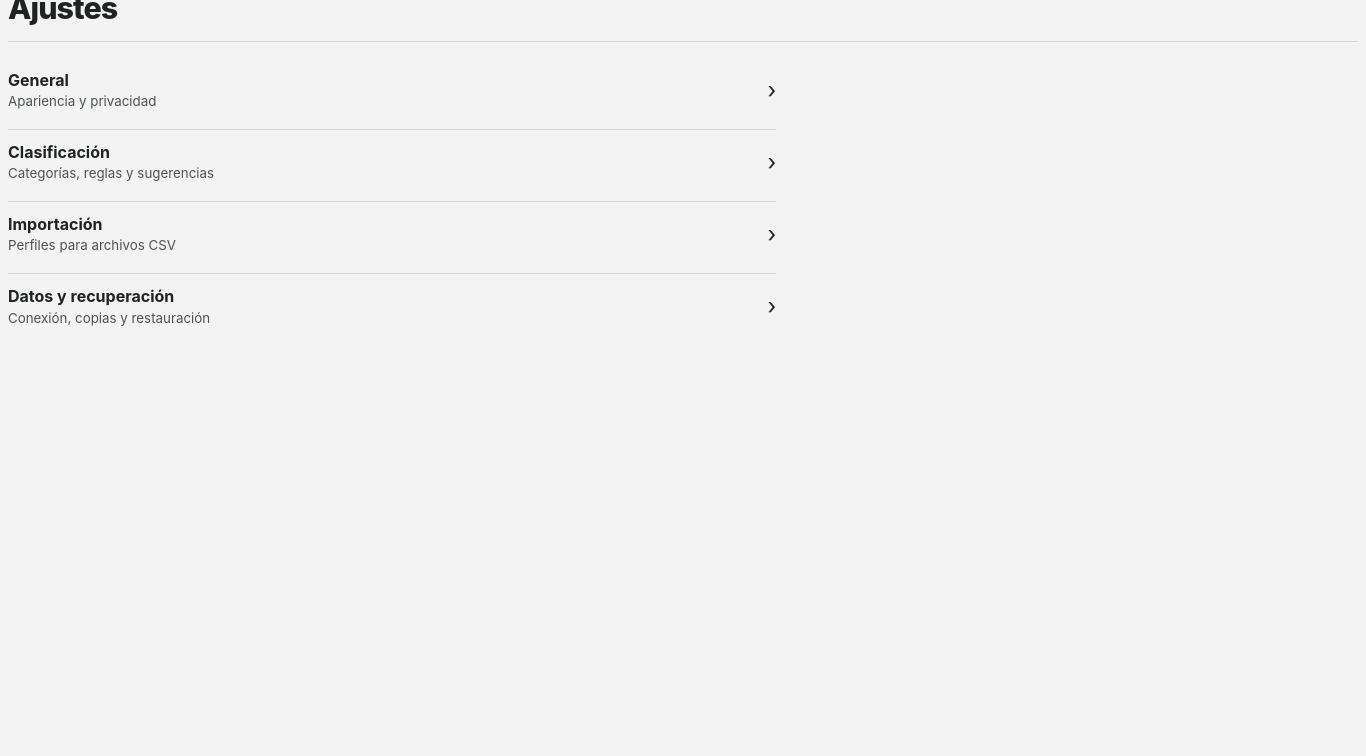
Test case: SettingsView › permite editar categorías desde el único árbol del destino
The image size is (1366, 756).
What coordinates should you click on to do the following:
click the button "Clasificación Categorías, reglas y sugerencias ›"
I would click on:
 (59, 152)
Its box is [8, 129, 776, 193].
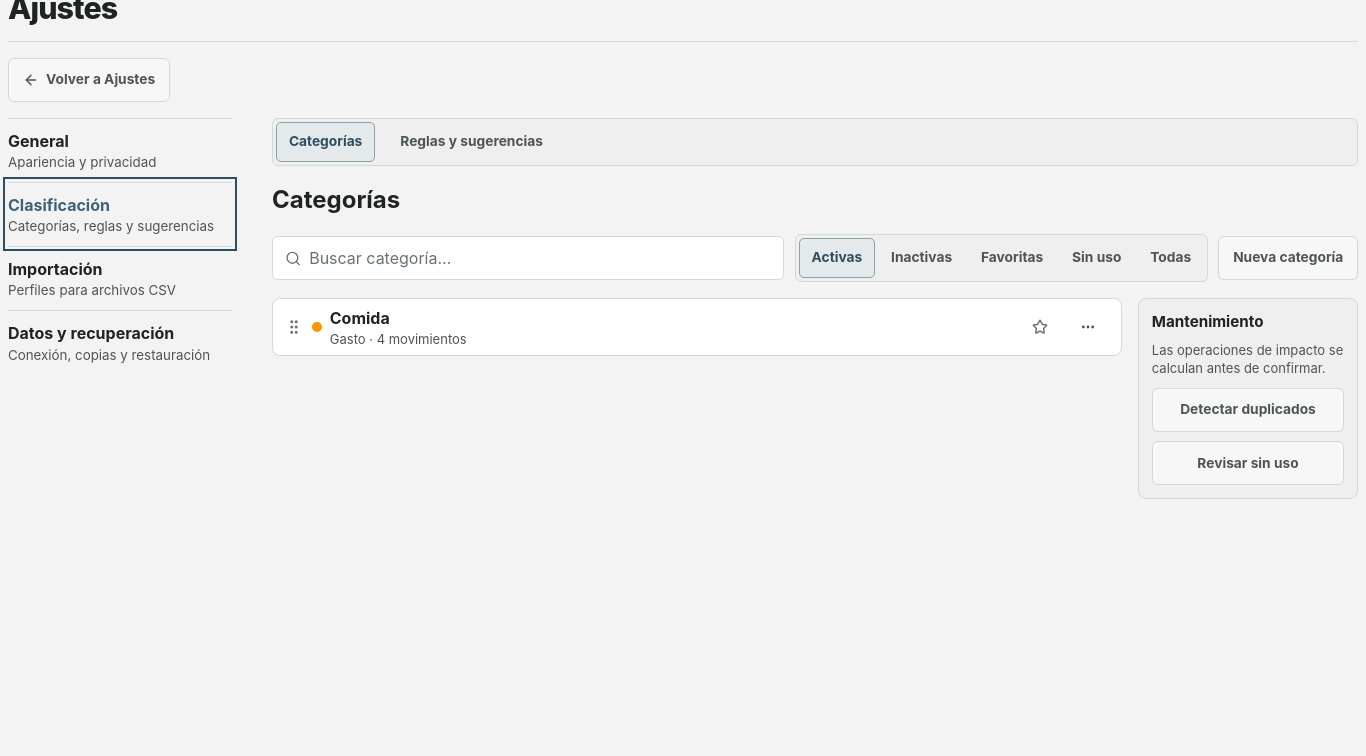
What coordinates should you click on to do the following:
click the button named "Acciones de Comida"
I would click on:
 (1088, 327)
Its box is [1066, 305, 1110, 350].
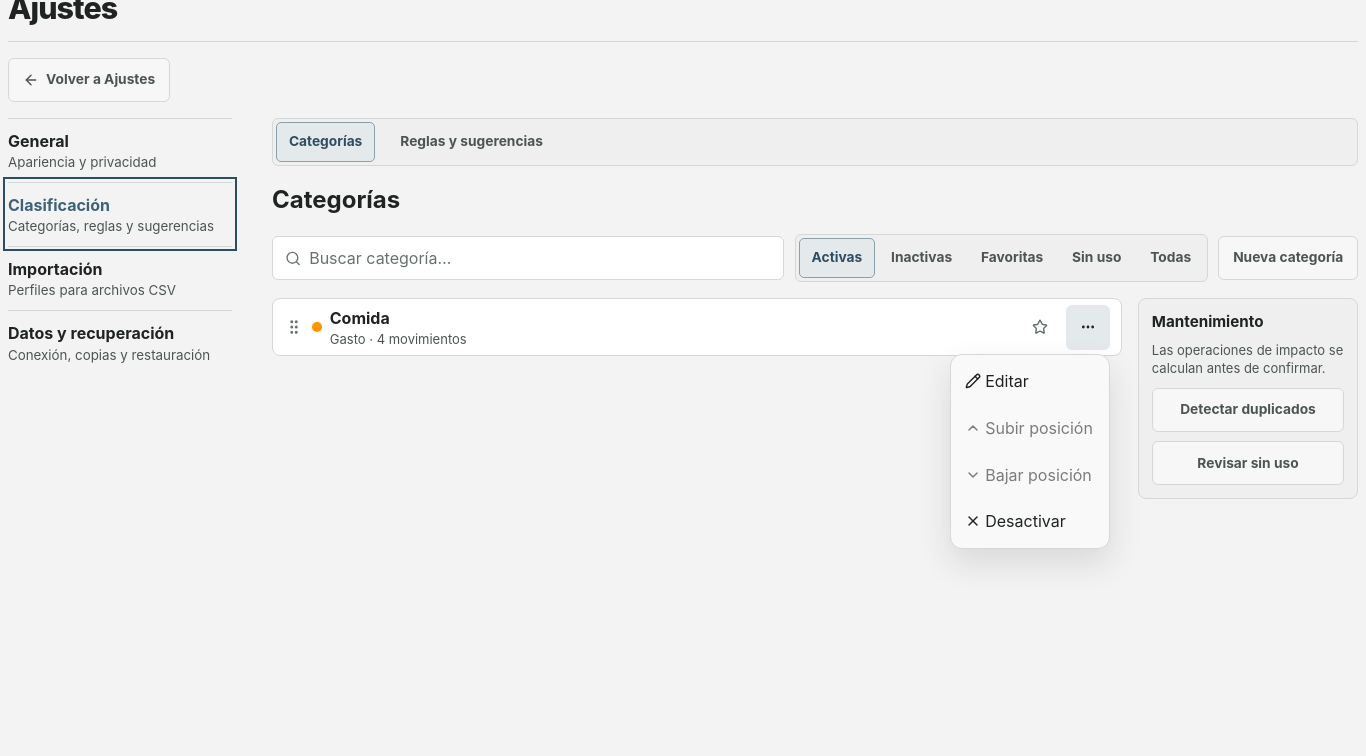
What coordinates should you click on to do the following:
click the button "Editar"
I would click on:
 (1030, 381)
Its box is [955, 358, 1105, 403].
(page scrolled)
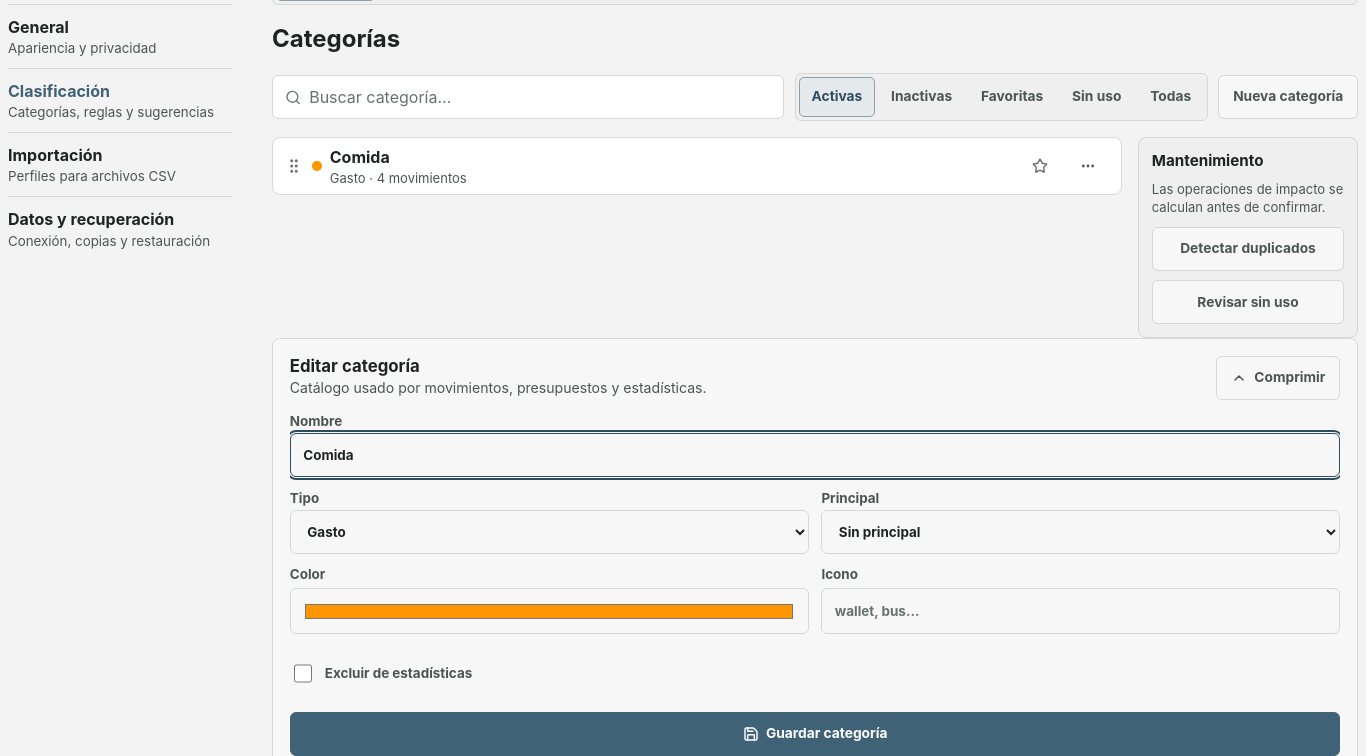
Expected: the number of elements named "Árbol de categorías" is 1, [272, 137, 1122, 195]
Expected: the field labelled "Nombre" holds "Comida", [290, 433, 1340, 477]
